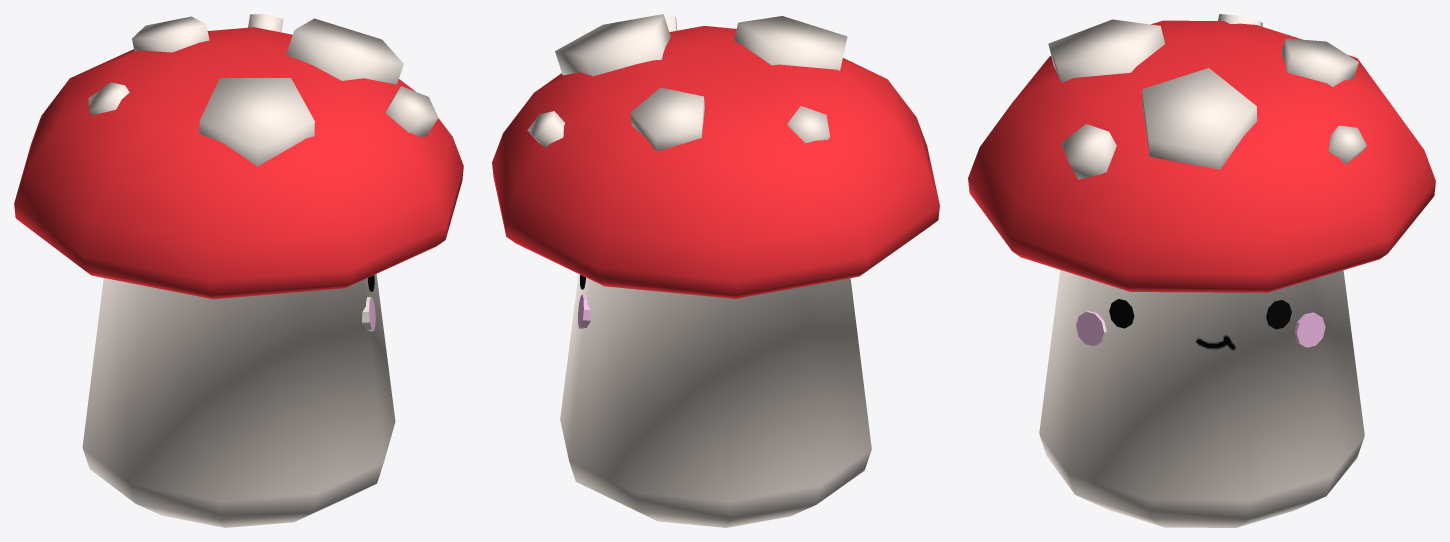
The model's file is Hongo1.fbx.
The picture shows the model from 3 angles, left to right: view 1: azimuth 30°, elevation 25°; view 2: azimuth 150°, elevation 25°; view 3: azimuth 270°, elevation 25°; orthographic projection. The views are drawn at different scales.
Visible parts, largest first — view 1: Red Mushroom; view 2: Red Mushroom; view 3: Red Mushroom.
Part boxes in pixels (x1,y1,x2,y2): Red Mushroom: (14,14,463,527); Red Mushroom: (492,14,939,527); Red Mushroom: (968,14,1435,527).
Size of the model in its own units: 29.42 by 32.15 by 30.79.
